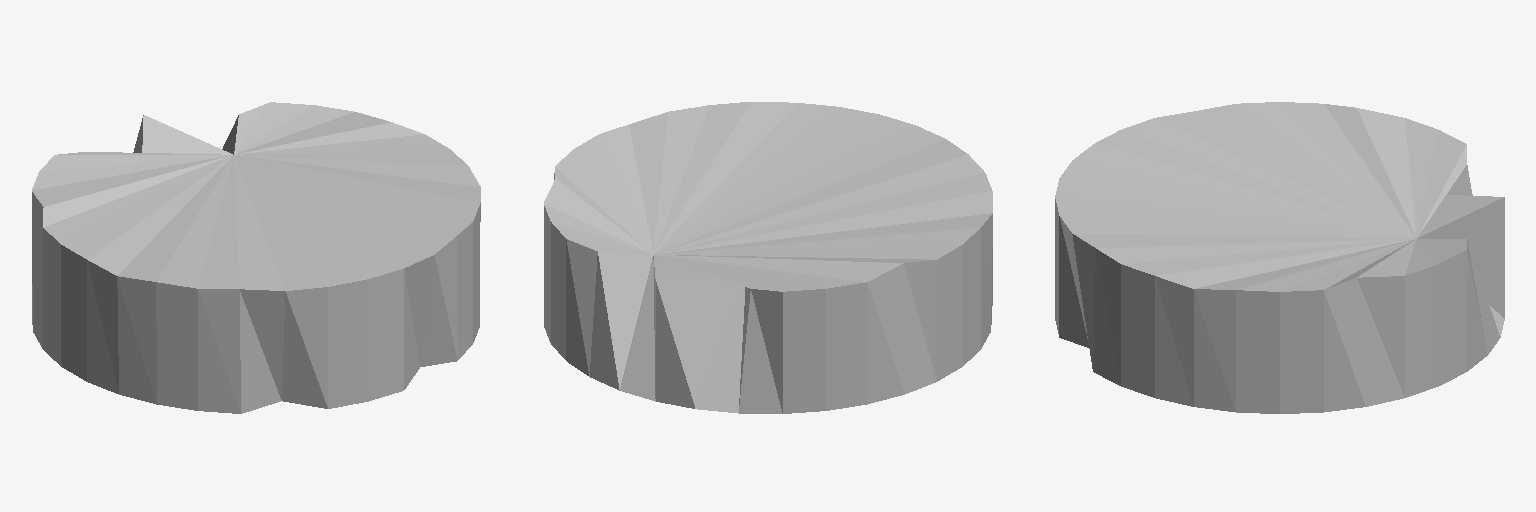
Rendered from Pillar.obj.
3 views of the same model, side by side, from view 1: azimuth 30°, elevation 25°; view 2: azimuth 150°, elevation 25°; view 3: azimuth 270°, elevation 25° (orthographic).
Visible parts, largest first — view 1: Cylinder; view 2: Cylinder; view 3: Cylinder.
Boxes of the visible parts, box(x1,y1,x2,y2) form: Cylinder: box(32, 102, 480, 413); Cylinder: box(544, 102, 992, 413); Cylinder: box(1055, 102, 1504, 413).
Bounding box in the file's own units: 20 × 6.21 × 20.